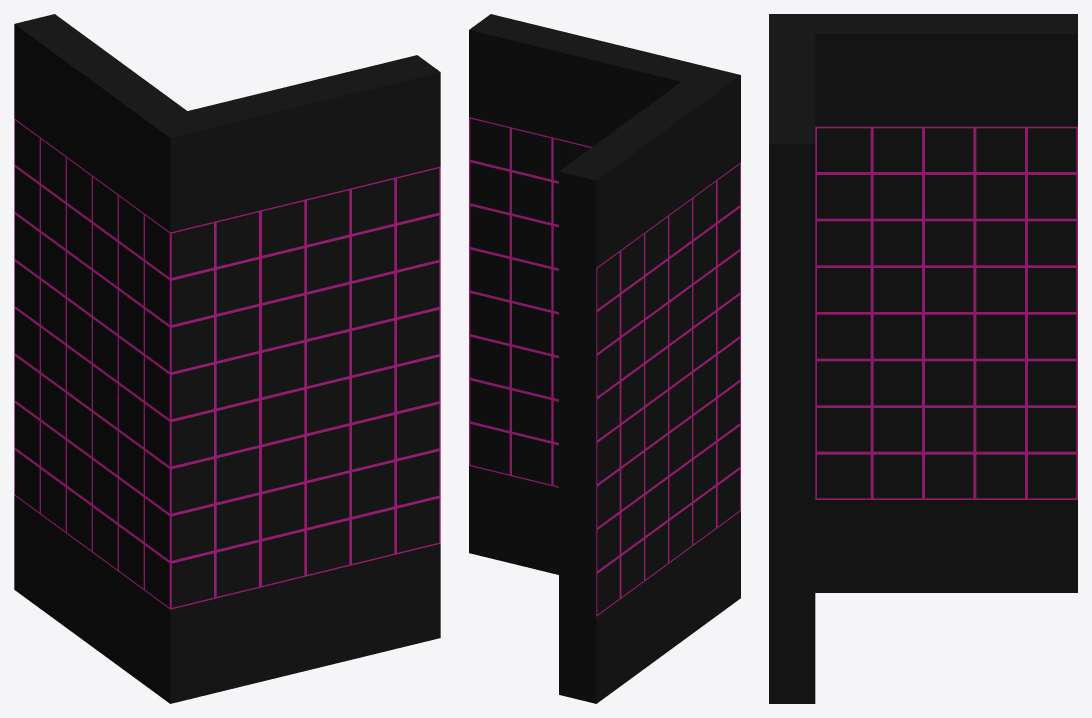
File: LEDGridCorner.glb
The picture shows the model from 3 angles, left to right: view 1: azimuth 30°, elevation 25°; view 2: azimuth 150°, elevation 25°; view 3: azimuth 270°, elevation 25°; orthographic projection. The views are drawn at different scales.
Parts seen in each view (by area): view 1: wall_grid_corner; view 2: wall_grid_corner; view 3: wall_grid_corner.
Part boxes in pixels (box(x1,y1,x2,y2)): wall_grid_corner: box(14, 14, 440, 703); wall_grid_corner: box(469, 14, 740, 703); wall_grid_corner: box(769, 14, 1077, 703).
Size of what is drawn, in the model's own units: 2 by 4 by 2.
Materials: 2 (2 with a texture image).
